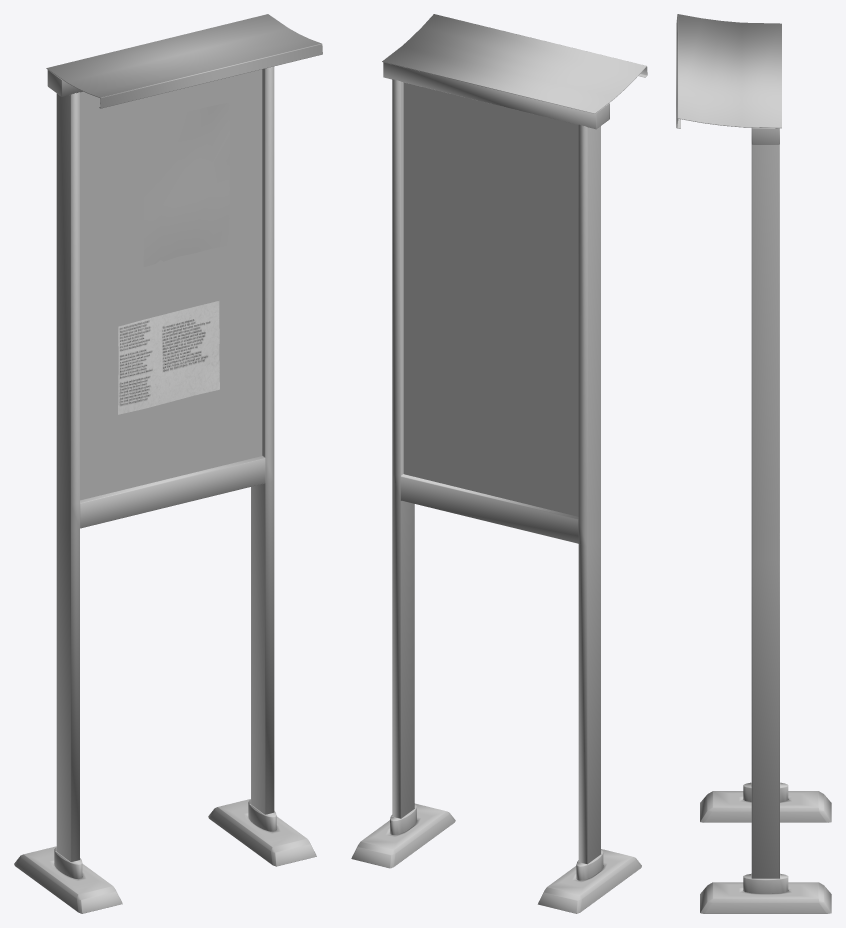
Rendered from board.FBX.
3 views of the same model, side by side, from view 1: azimuth 30°, elevation 25°; view 2: azimuth 150°, elevation 25°; view 3: azimuth 270°, elevation 25° (orthographic). The views are drawn at different scales.
Visible parts, largest first — view 1: board; view 2: board; view 3: board.
Part boxes in pixels (x1,y1,x2,y2): board: (14,14,322,913); board: (351,14,647,913); board: (676,14,831,913).
Size of the model in its own units: 47.13 by 156 by 27.71.
